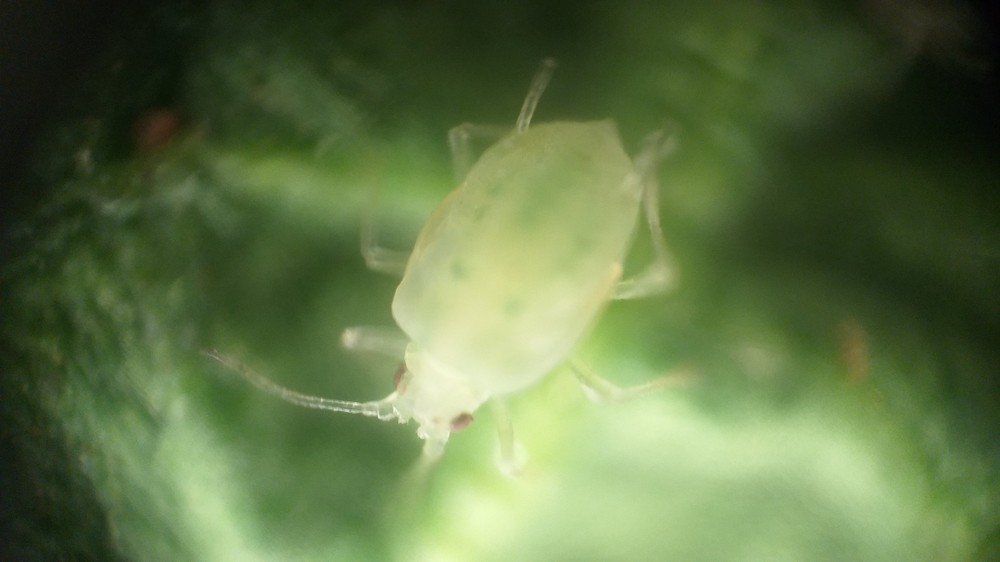Pulgon: (228, 41, 764, 541)
